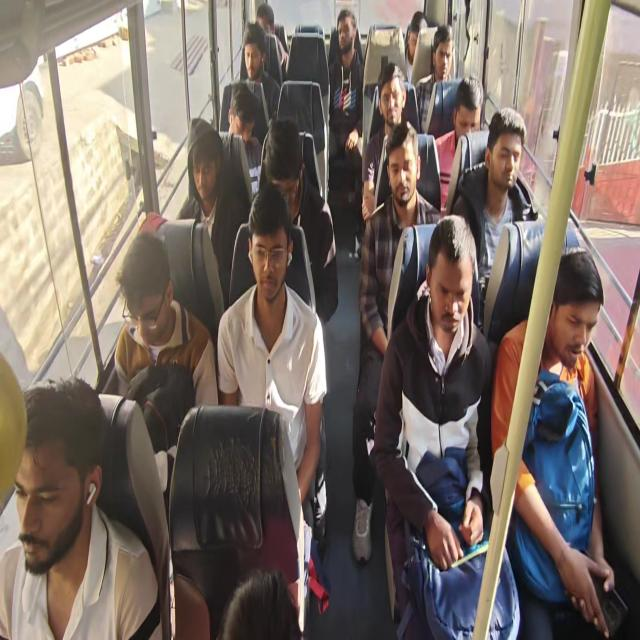person: (1, 374, 106, 568), (536, 245, 598, 369), (119, 235, 174, 348), (223, 567, 307, 640), (429, 220, 475, 340), (248, 198, 294, 291), (264, 121, 302, 202), (491, 110, 524, 187), (388, 130, 421, 200), (188, 120, 214, 201), (454, 79, 485, 146), (378, 64, 408, 124), (402, 4, 428, 61), (250, 0, 280, 43), (232, 87, 254, 145), (430, 24, 454, 77), (238, 30, 263, 76), (331, 16, 356, 52)
